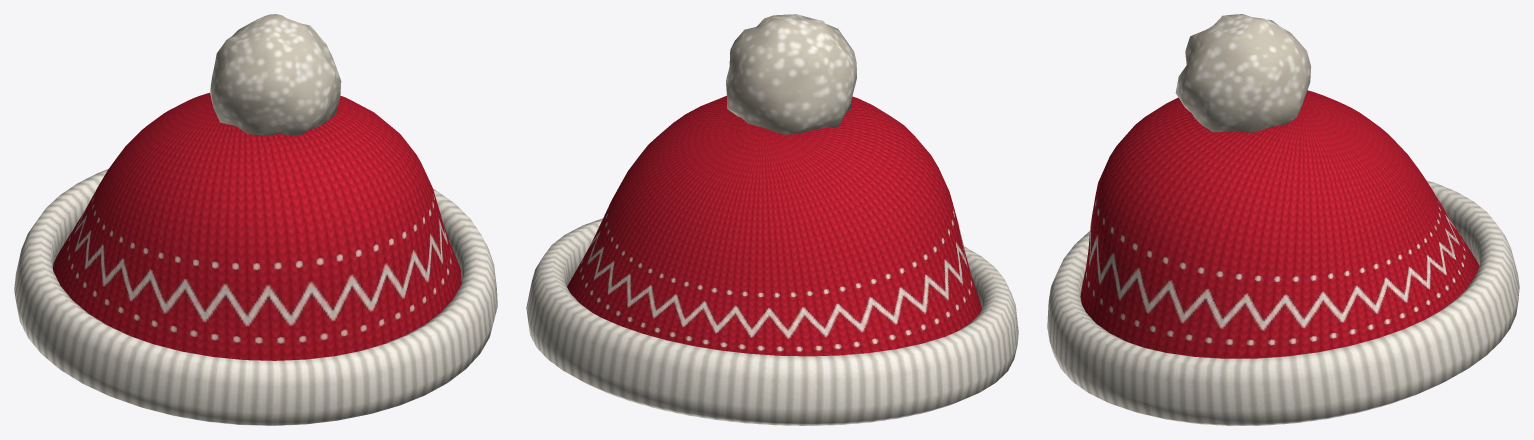
File: beanie.glb
The picture shows the model from 3 angles, left to right: view 1: azimuth 30°, elevation 25°; view 2: azimuth 150°, elevation 25°; view 3: azimuth 270°, elevation 25°; orthographic projection.
Parts seen in each view (by area): view 1: Hat, jiggle_pom; view 2: Hat, jiggle_pom; view 3: Hat, jiggle_pom.
Part boxes in pixels (bbox=[...]): Hat: bbox=[14, 92, 497, 425]; jiggle_pom: bbox=[210, 14, 341, 136]; Hat: bbox=[526, 96, 1018, 425]; jiggle_pom: bbox=[726, 14, 856, 134]; Hat: bbox=[1047, 90, 1519, 425]; jiggle_pom: bbox=[1175, 14, 1311, 132].
Bounding box in the file's own units: 0.6976 × 0.5148 × 0.6721.
1 material, 1 textured.
